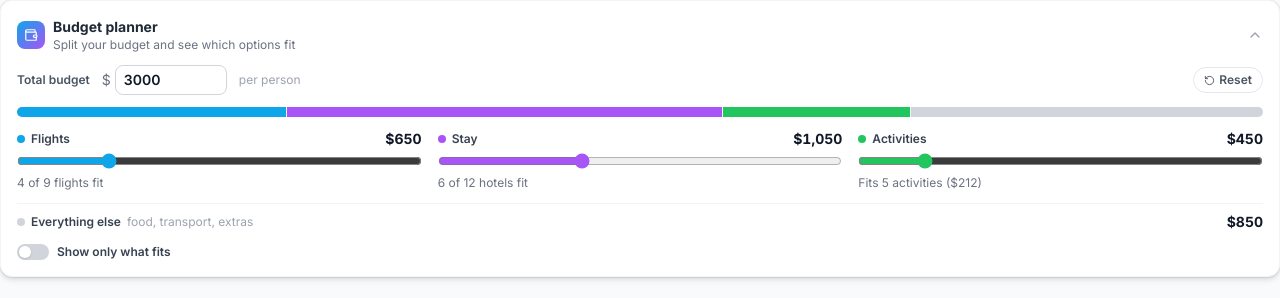
it: BudgetPlanner › is expanded by default and collapses from its header
This screenshot has width=1280, height=298.
What coordinates should you click on to do the following:
click the button "Budget planner Split your budget and see which options fit"
I would click on:
 (105, 26)
Its box is [17,17,1263,53].
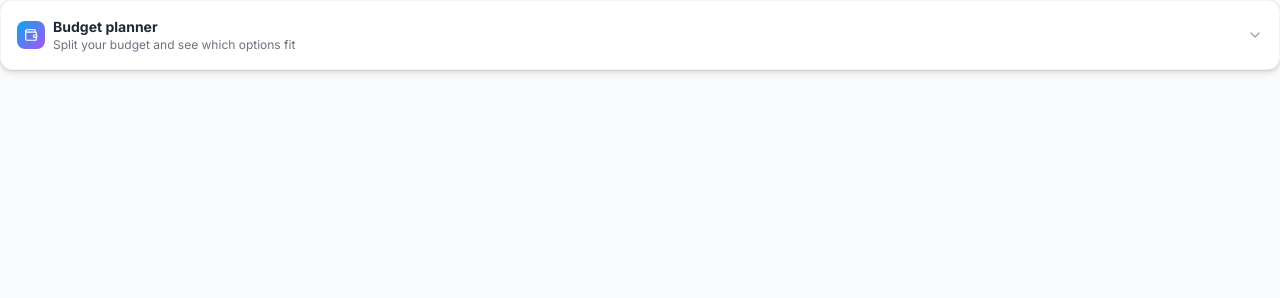
expect the button "Budget planner Split your budget and see which options fit" is collapsed: met, box [17,17,1263,53]
